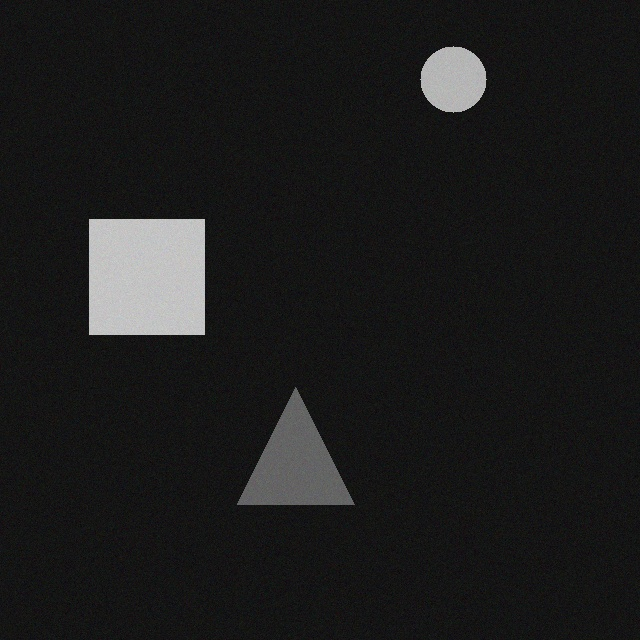circle: (424, 54, 490, 120)
square: (93, 227, 208, 342)
triangle: (241, 395, 358, 512)
